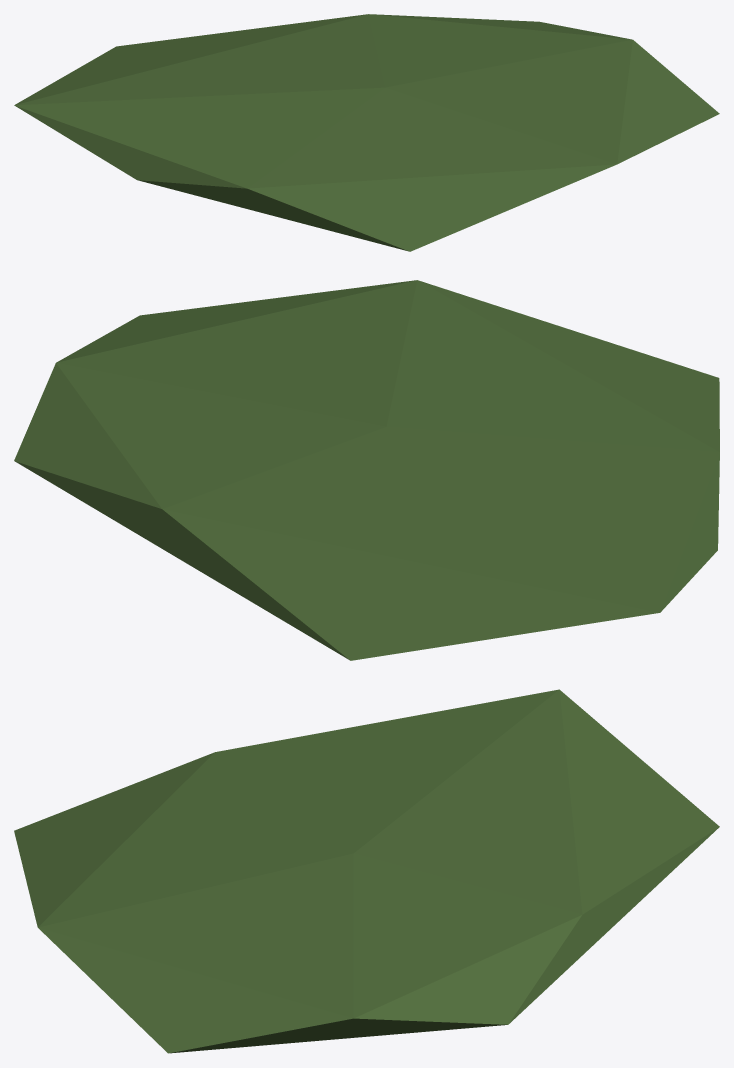
File: moss_patch.fbx
The picture shows the model from 3 angles, top to bottom: view 1: azimuth 30°, elevation 25°; view 2: azimuth 150°, elevation 25°; view 3: azimuth 270°, elevation 25°; orthographic projection. The views are drawn at different scales.
Parts seen in each view (by area): view 1: moss_patch; view 2: moss_patch; view 3: moss_patch.
Part boxes in pixels (x1,y1,x2,y2): moss_patch: [14, 14, 719, 251]; moss_patch: [14, 280, 719, 660]; moss_patch: [14, 689, 719, 1053].
Size of the model in its own units: 221 by 19.08 by 199.
